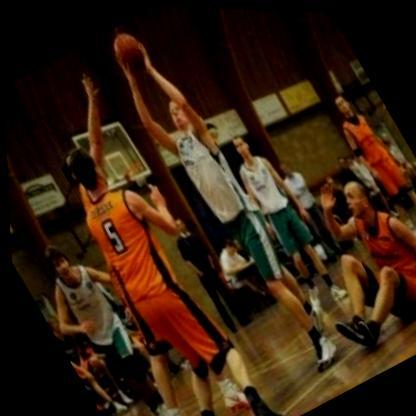basketball: (100, 22, 154, 78)
